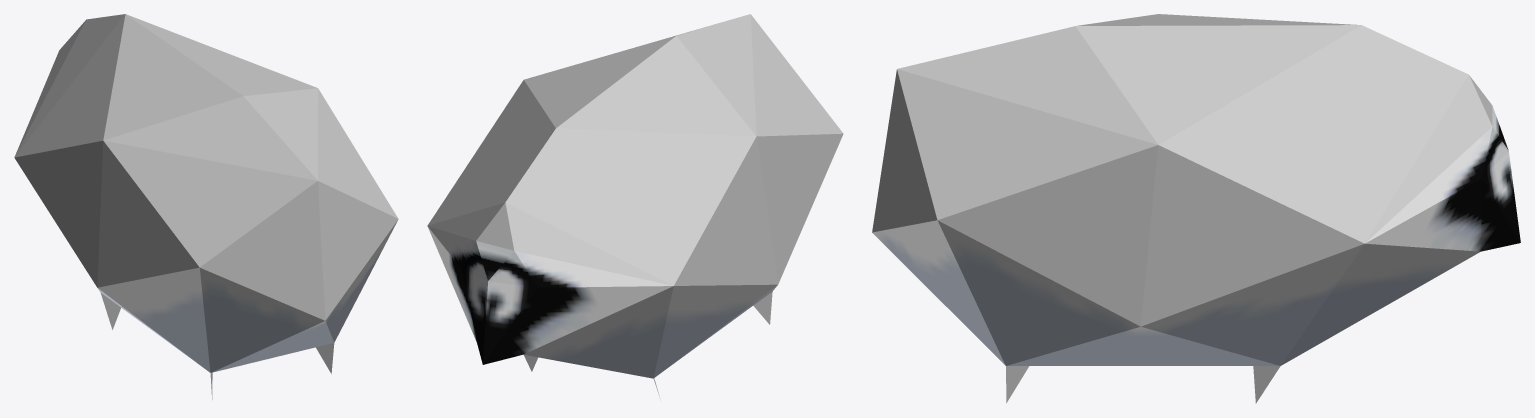
The model's file is daffy_duck.obj.
The picture shows the model from 3 angles, left to right: view 1: azimuth 30°, elevation 25°; view 2: azimuth 150°, elevation 25°; view 3: azimuth 270°, elevation 25°; orthographic projection. The views are drawn at different scales.
Bounding box in the file's own units: 0.72 × 0.7775 × 1.34.
Materials: 2 (1 with a texture image).
